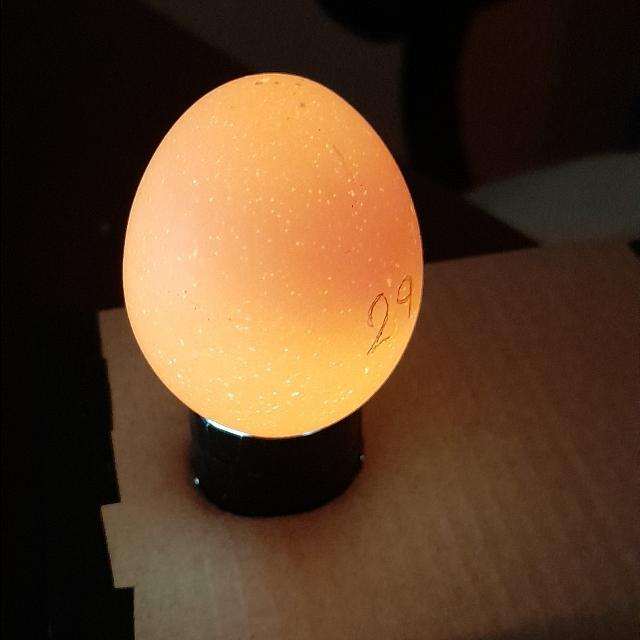A - Good: (114, 66, 430, 444)
